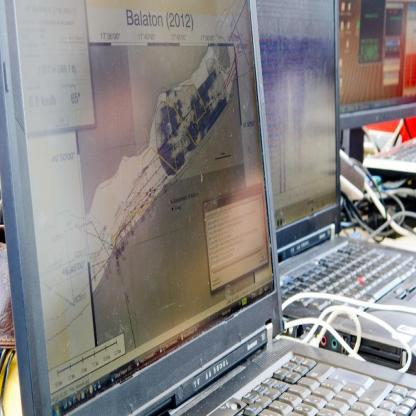board: (0, 0, 415, 415), (254, 0, 416, 378)
